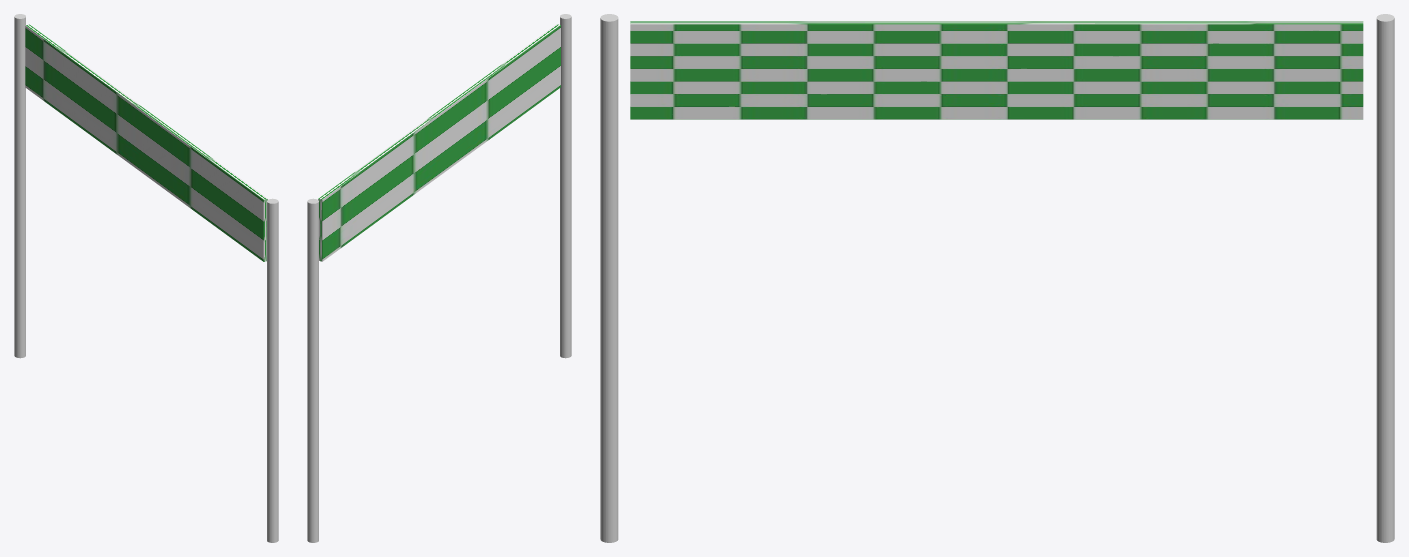
File: start.glb
3 views of the same model, side by side, from view 1: azimuth 30°, elevation 25°; view 2: azimuth 150°, elevation 25°; view 3: azimuth 270°, elevation 25° (orthographic). The views are drawn at different scales.
Parts seen in each view (by area): view 1: Cube, Cylinder, Cylinder.001; view 2: Cube, Cylinder.001, Cylinder; view 3: Cube, Cylinder, Cylinder.001.
Part boxes in pixels (box(x1,y1,x2,y2)): Cube: box(25, 24, 267, 261); Cylinder: box(267, 198, 278, 542); Cylinder.001: box(14, 14, 25, 358); Cube: box(318, 24, 560, 261); Cylinder.001: box(307, 198, 318, 542); Cylinder: box(560, 14, 571, 358); Cube: box(630, 21, 1363, 119); Cylinder: box(600, 14, 618, 542); Cylinder.001: box(1376, 14, 1394, 542).
Size of the model in its own units: 0.342 by 10.93 by 15.09.
Materials: 1 (1 with a texture image).
